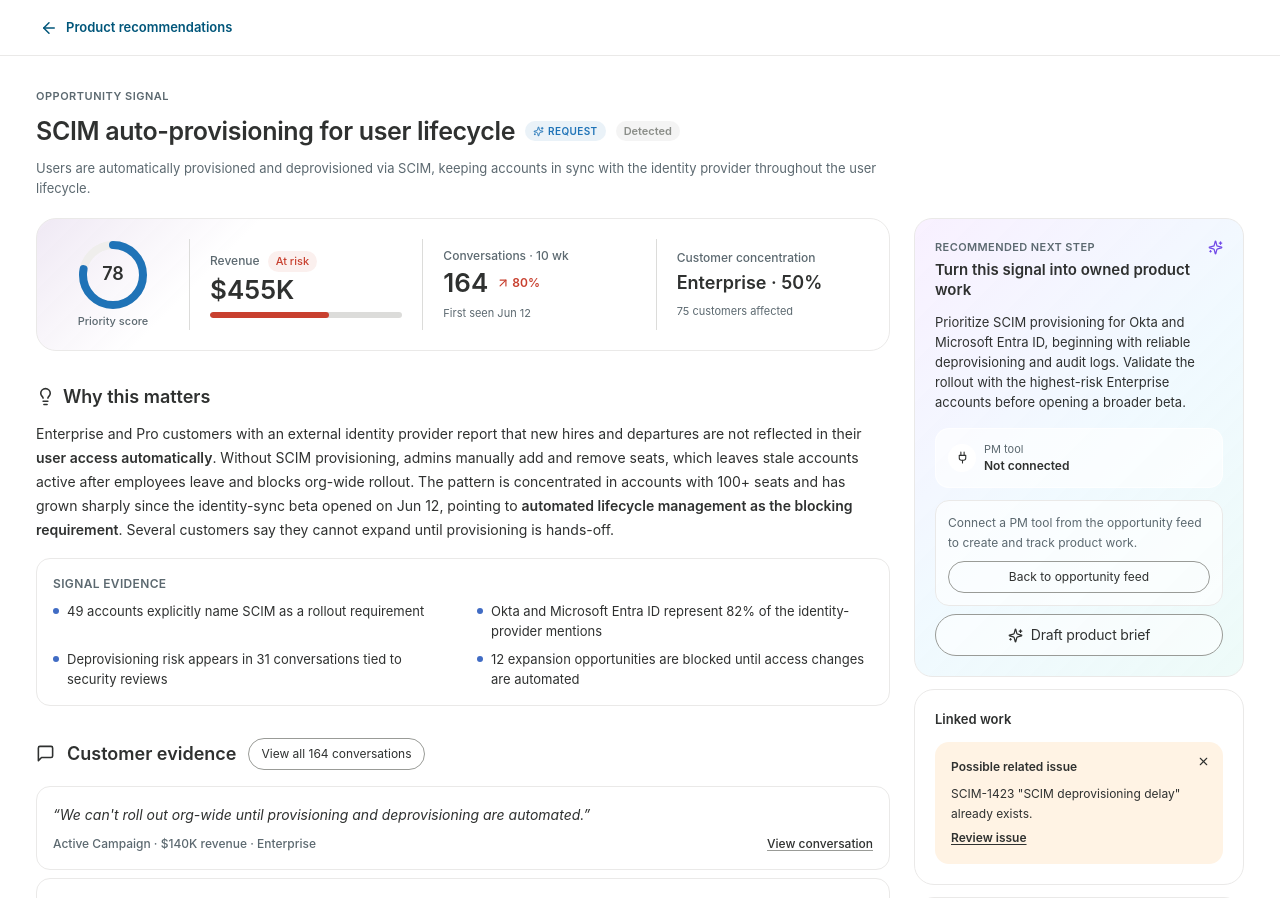
Test: OpportunityDetailScreen › dismissing the linked-item alert hides it
Check: the text "Possible related issue" is shown, box x1=951 y1=758 x2=1077 y2=774
Click the button named "dismiss" at x=1203, y=762, box x1=1191 y1=750 x2=1215 y2=774
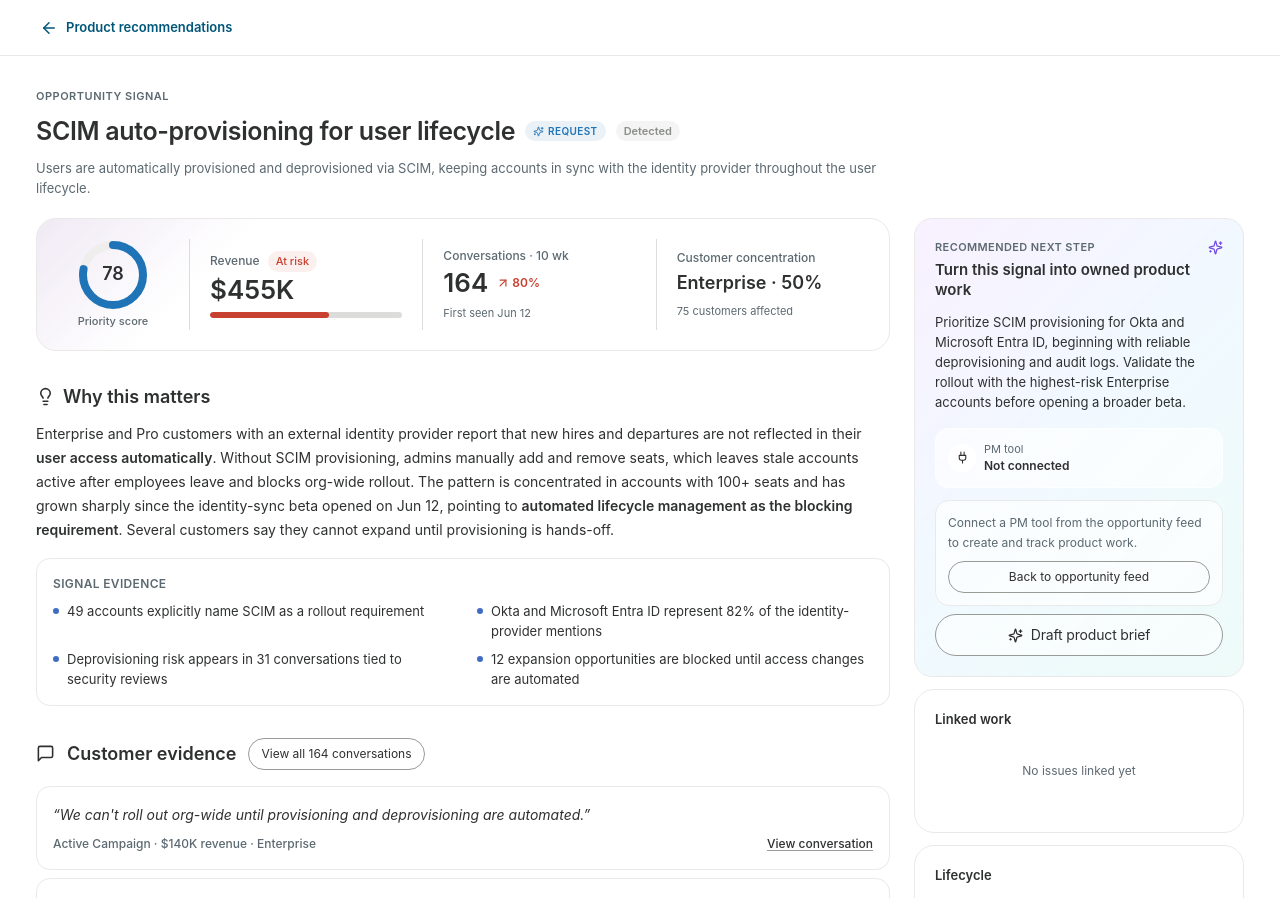
Check: the text "Possible related issue" is gone
Check: the text "No issues linked yet" is shown, box x1=1022 y1=762 x2=1136 y2=778
